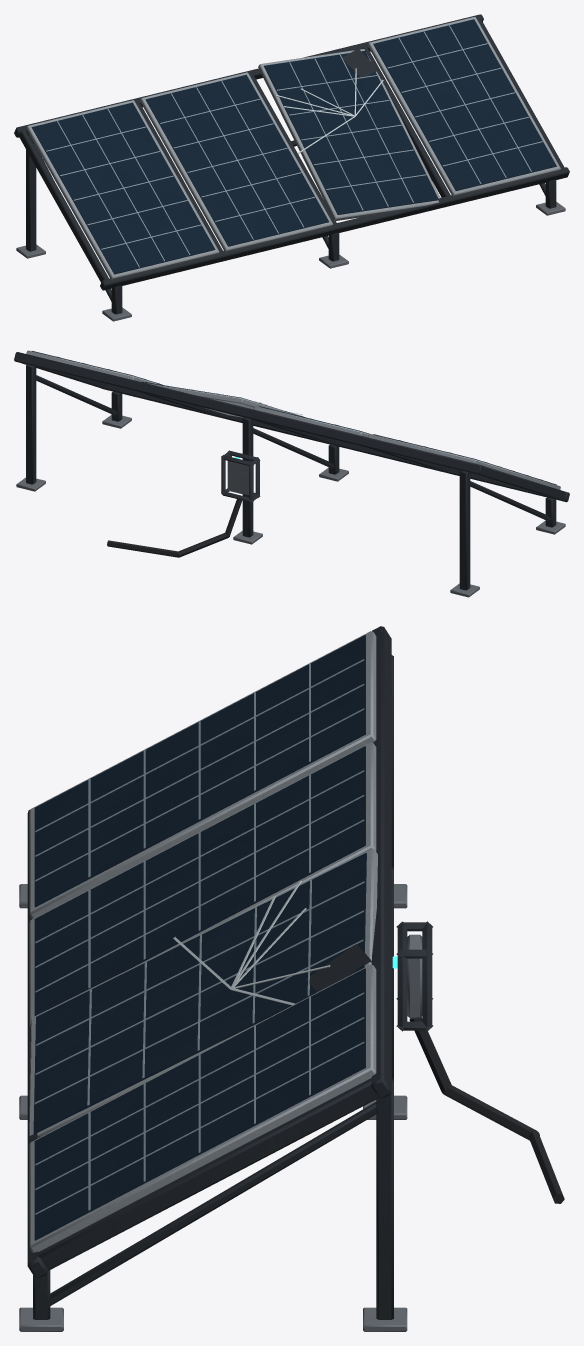
File: solar_panel_array.glb
3 views of the same model, one above another, from view 1: azimuth 30°, elevation 25°; view 2: azimuth 150°, elevation 25°; view 3: azimuth 270°, elevation 25° (orthographic). The views are drawn at different scales.
Visible parts, largest first — view 1: solar_panel_array; view 2: solar_panel_array; view 3: solar_panel_array.
Part boxes in pixels (bbox=[...]): solar_panel_array: bbox=[14, 14, 569, 321]; solar_panel_array: bbox=[14, 350, 569, 597]; solar_panel_array: bbox=[19, 626, 564, 1331].
Bounding box in the file's own units: 4.34 × 1.21 × 2.2.
Materials: 8 (7 with a texture image).
